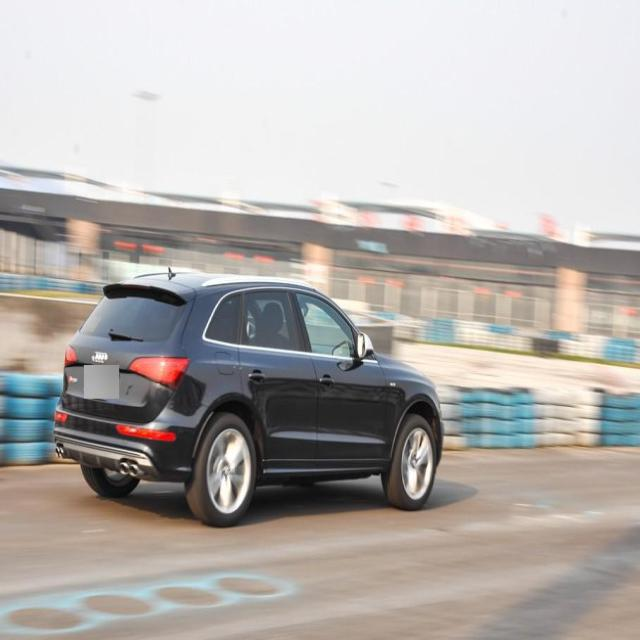back_glass: (78, 285, 188, 343)
back_left_side_light: (64, 344, 78, 368)
back_right_side_light: (128, 354, 190, 392)
door: (238, 289, 320, 466)
front_right_side_door: (291, 289, 390, 472)
front_right_side_mirror: (358, 330, 374, 363)
rear_bumper: (54, 396, 205, 482)
wheel: (186, 410, 257, 525), (382, 416, 436, 509)
